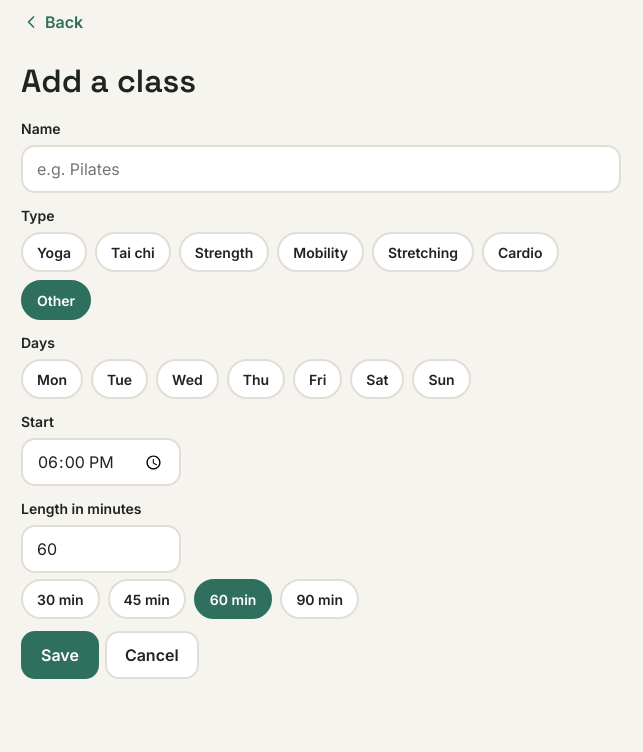
Scenario: ScheduleItemForm › blocks saving without a name or days and shows why
Click the button "Save" at [60, 655], box [21,631,99,679]
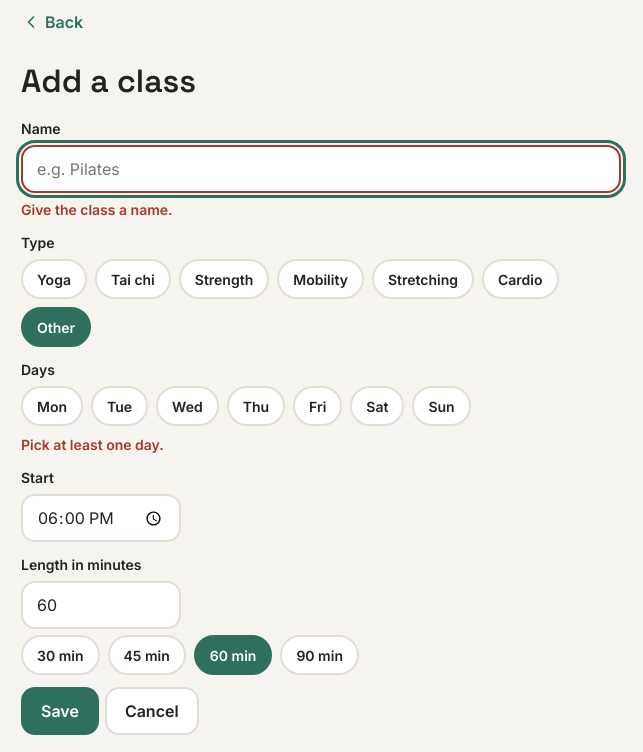
Now the text "Give the class a name." is shown, box [21,201,172,218]
Now the text "Pick at least one day." is shown, box [21,436,164,453]
